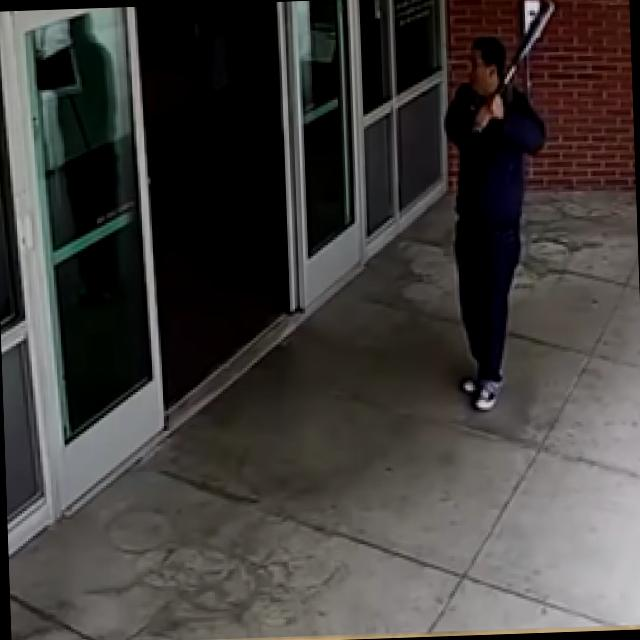person: (437, 29, 558, 416)
